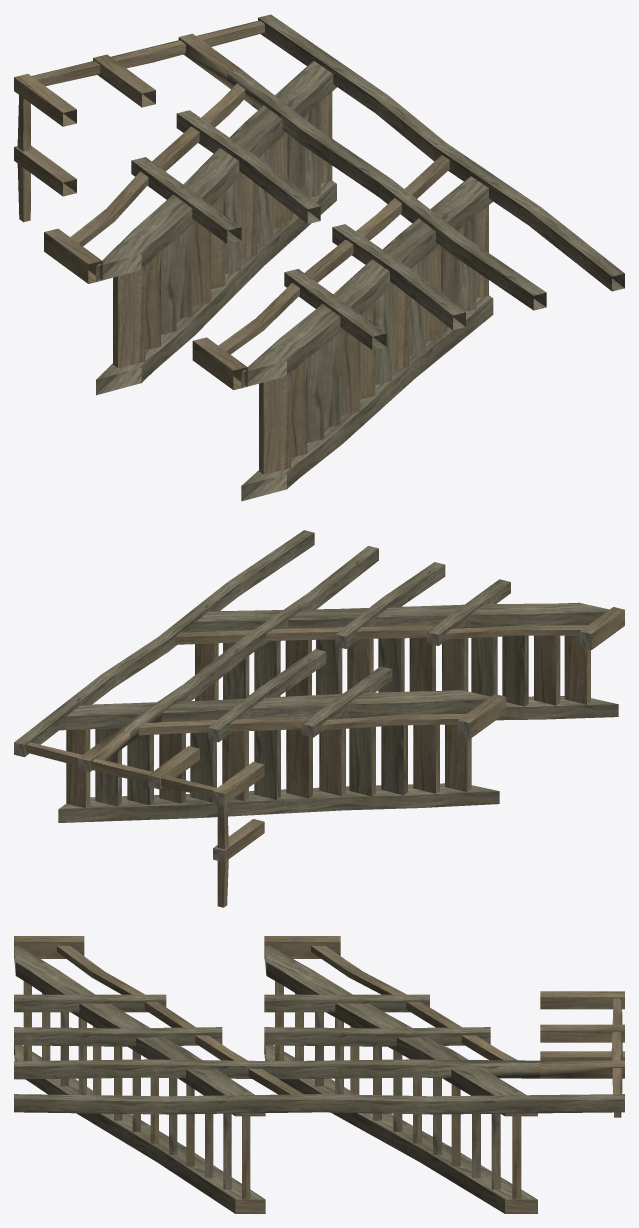
File: Pirate_House_Stairs_F.fbx
The picture shows the model from 3 angles, top to bottom: view 1: azimuth 30°, elevation 25°; view 2: azimuth 150°, elevation 25°; view 3: azimuth 270°, elevation 25°; orthographic projection. The views are drawn at different scales.
Visible parts, largest first — view 1: Pirate_House_Stairs_F; view 2: Pirate_House_Stairs_F; view 3: Pirate_House_Stairs_F.
Part boxes in pixels (x1,y1,x2,y2): Pirate_House_Stairs_F: (14, 14, 624, 501); Pirate_House_Stairs_F: (14, 530, 624, 907); Pirate_House_Stairs_F: (14, 936, 624, 1213).
Bounding box in the file's own units: 6.5 × 2.21 × 10.05.
